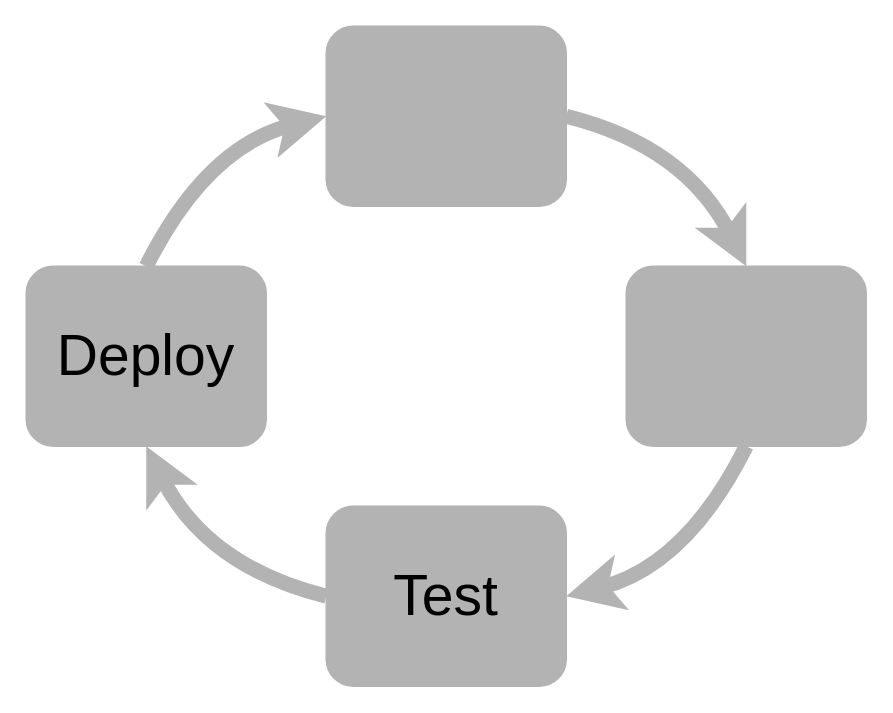
Image size: 893x713. Some labels were removed from this diagram. Here are the shapes that lost their labels. From the top down, the centre of each, then its label:
At (x=445, y=115): "Code".
At (x=745, y=355): "Build Image".
